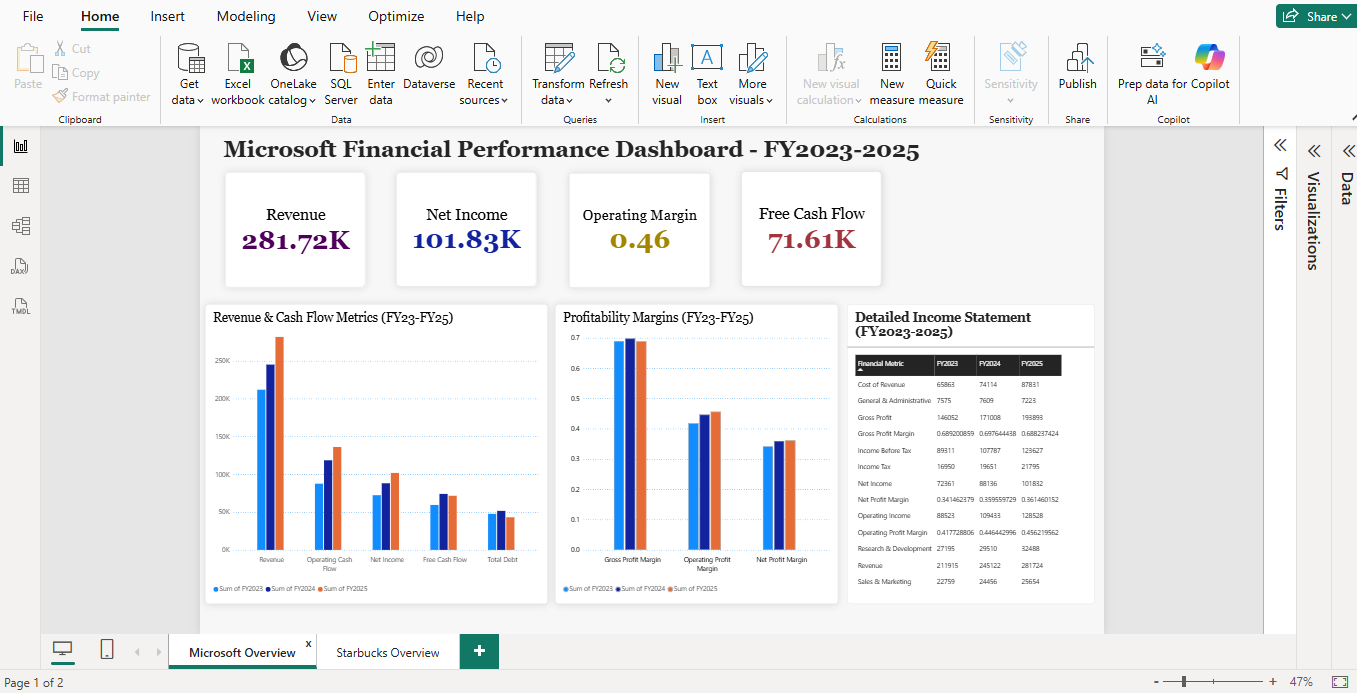

What the dashboard file says about the page in this screenshot:
{"tool":"powerbi","page":{"name":"Microsoft Overview","canvas":[1920,1080],"ordinal":0},"visuals":[{"type":"clusteredColumnChart","title":"Revenue & Cash Flow Metrics (FY23-FY25)","fields":{"Category":["Trend Analysis (2).Financial Metric"],"Y":["Sum(Trend Analysis (2).FY2023)","Sum(Trend Analysis (2).FY2024)","Sum(Trend Analysis (2).FY2025)"]},"box":[10.6,378.4,729.2,637.8],"z":0},{"type":"clusteredColumnChart","title":"Profitability Margins (FY23-FY25)","fields":{"Category":["Trend Analysis (2).Financial Metric"],"Y":["Sum(Trend Analysis (2).FY2023)","Sum(Trend Analysis (2).FY2024)","Sum(Trend Analysis (2).FY2025)"]},"box":[754.7,378.4,601.7,637.8],"z":1000},{"type":"textbox","box":[10.6,21.3,1558.3,78.7],"z":2000},{"type":"cardVisual","fields":{"Data":["Sum(Trend Analysis (2).FY2025)"]},"box":[53.1,97.8,299.8,246.9],"z":3000},{"type":"cardVisual","fields":{"Data":["Sum(Trend Analysis (2).FY2025)"]},"box":[416.7,97.8,299.8,244.4],"z":4000},{"type":"cardVisual","fields":{"Data":["Sum(Trend Analysis (2).FY2025)"]},"box":[784.5,99.9,300,244],"z":5000},{"type":"cardVisual","fields":{"Data":["Sum(Trend Analysis (2).FY2025)"]},"box":[1150.2,95.7,299.8,246.9],"z":6000},{"type":"tableEx","title":"Detailed Income Statement (FY2023-2025)","fields":{"Values":["Income Statement (2).Financial Metric","Income Statement (2).FY2023","Income Statement (2).FY2024","Income Statement (2).FY2025"]},"box":[1375.5,378.4,527.2,637.8],"z":7000}]}

Visuals, with their boxes on the page's 1920x1080 design canvas (x1, y1, x2, y2). These are canvas units, not pixel positions in the 1357x693 screenshot, which may show the page scaled, cropped or inside an application window:
"Revenue & Cash Flow Metrics (FY23-FY25)" clusteredColumnChart: bbox=[11, 378, 740, 1016]
"Profitability Margins (FY23-FY25)" clusteredColumnChart: bbox=[755, 378, 1356, 1016]
textbox: bbox=[11, 21, 1569, 100]
cardVisual - Sum(Trend Analysis (2).FY2025): bbox=[53, 98, 353, 345]
cardVisual - Sum(Trend Analysis (2).FY2025): bbox=[417, 98, 716, 342]
cardVisual - Sum(Trend Analysis (2).FY2025): bbox=[784, 100, 1084, 344]
cardVisual - Sum(Trend Analysis (2).FY2025): bbox=[1150, 96, 1450, 343]
"Detailed Income Statement (FY2023-2025)" tableEx: bbox=[1376, 378, 1903, 1016]
